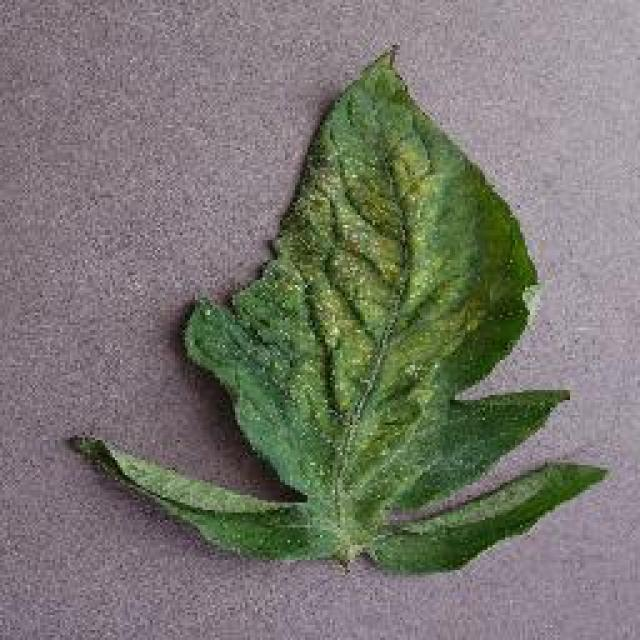Tomato mosaic virus leaf: (64, 44, 606, 581)
